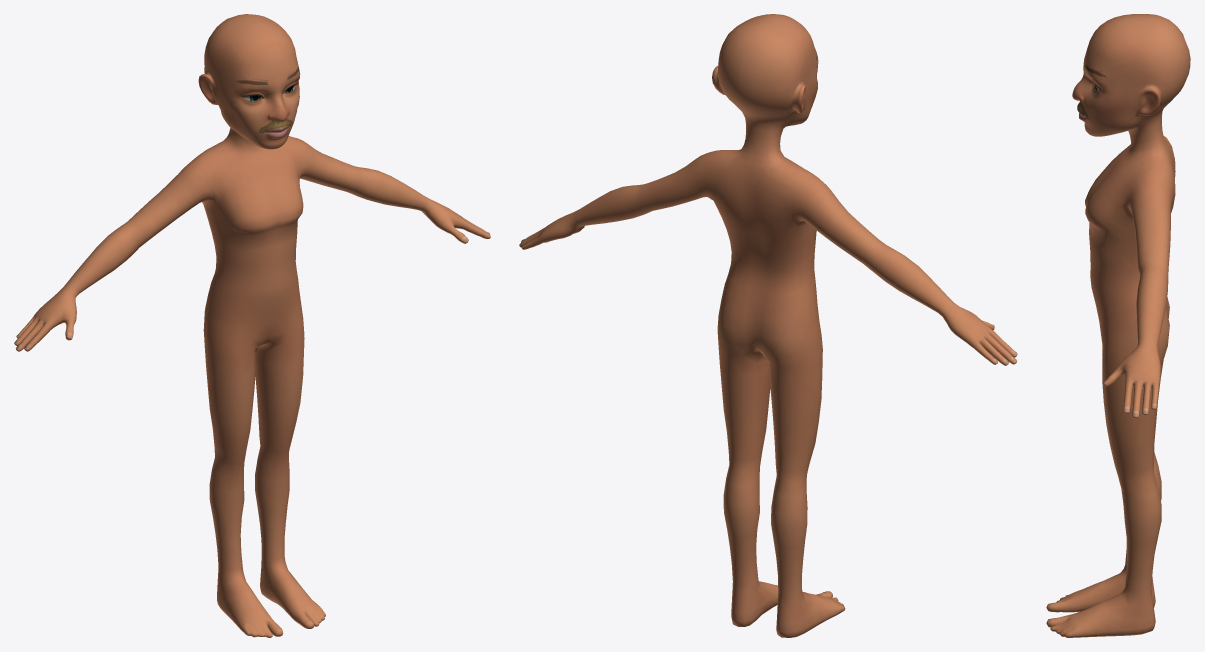
Rendered from frame_0019.glb.
The picture shows the model from 3 angles, left to right: view 1: azimuth 30°, elevation 25°; view 2: azimuth 150°, elevation 25°; view 3: azimuth 270°, elevation 25°; orthographic projection. The views are drawn at different scales.
Visible parts, largest first — view 1: frame_0019_head_geo; view 2: frame_0019_head_geo; view 3: frame_0019_head_geo.
Boxes of the visible parts, x1=… form: frame_0019_head_geo: x1=14, y1=14, x2=490, y2=637; frame_0019_head_geo: x1=519, y1=14, x2=1017, y2=637; frame_0019_head_geo: x1=1046, y1=14, x2=1190, y2=637.
Bounding box in the file's own units: 1.28 × 1.5 × 0.3253.
3 materials, 3 textured.
